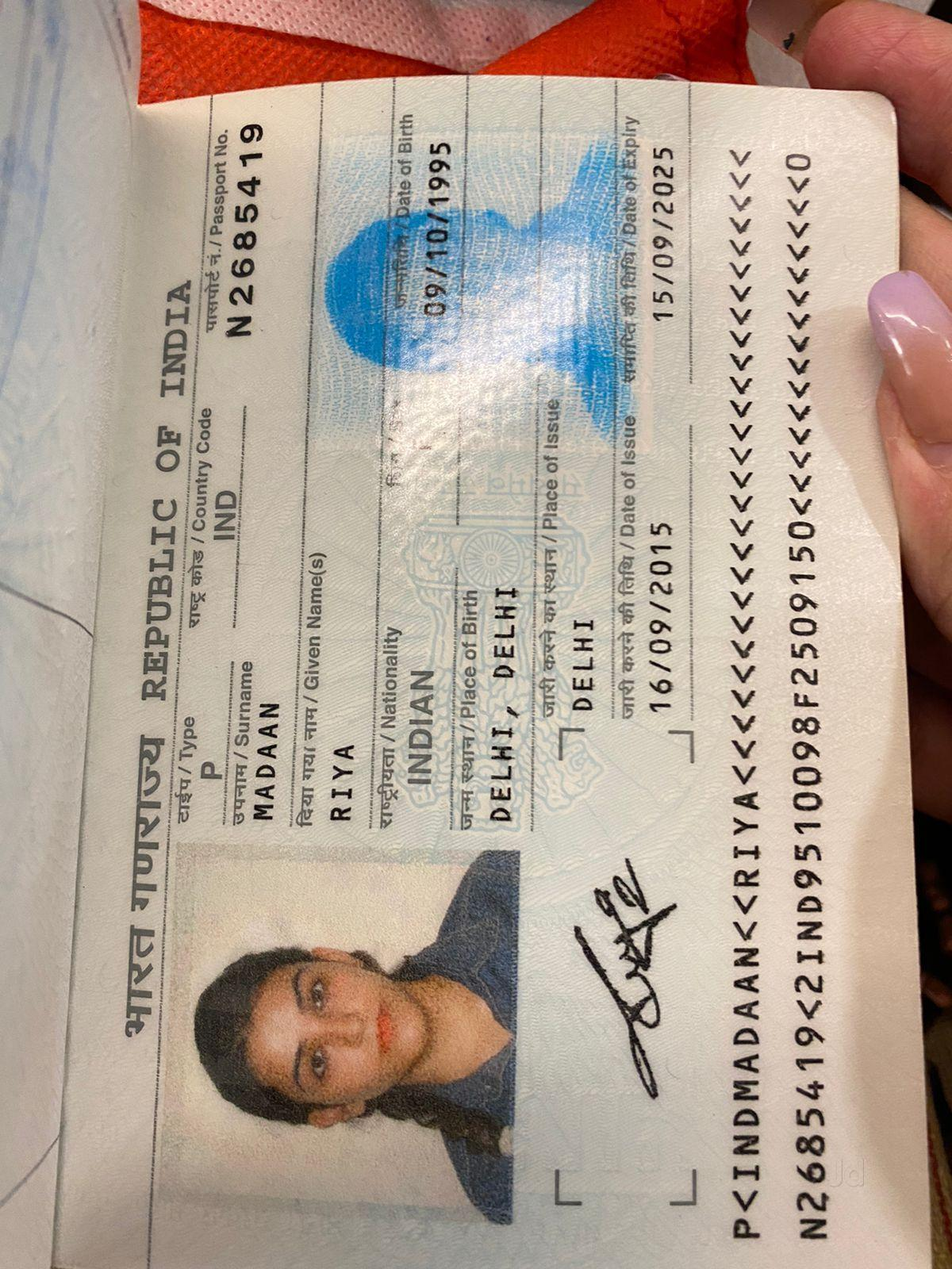DOB: (418, 114, 472, 365)
Surname: (252, 681, 287, 836)
country_code: (196, 471, 253, 581)
date_of_expiry: (645, 136, 682, 332)
date_of_issue: (643, 506, 679, 725)
details: (707, 129, 854, 1269)
name: (322, 730, 368, 849)
nationality: (403, 657, 443, 794)
passport_no: (222, 111, 278, 351)
photo: (181, 850, 519, 1212)
place_of_birth: (484, 573, 527, 849)
place_of_issue: (555, 595, 607, 728)
sex: (413, 432, 443, 468)
sign: (572, 827, 692, 1111)
type: (188, 743, 237, 818)
